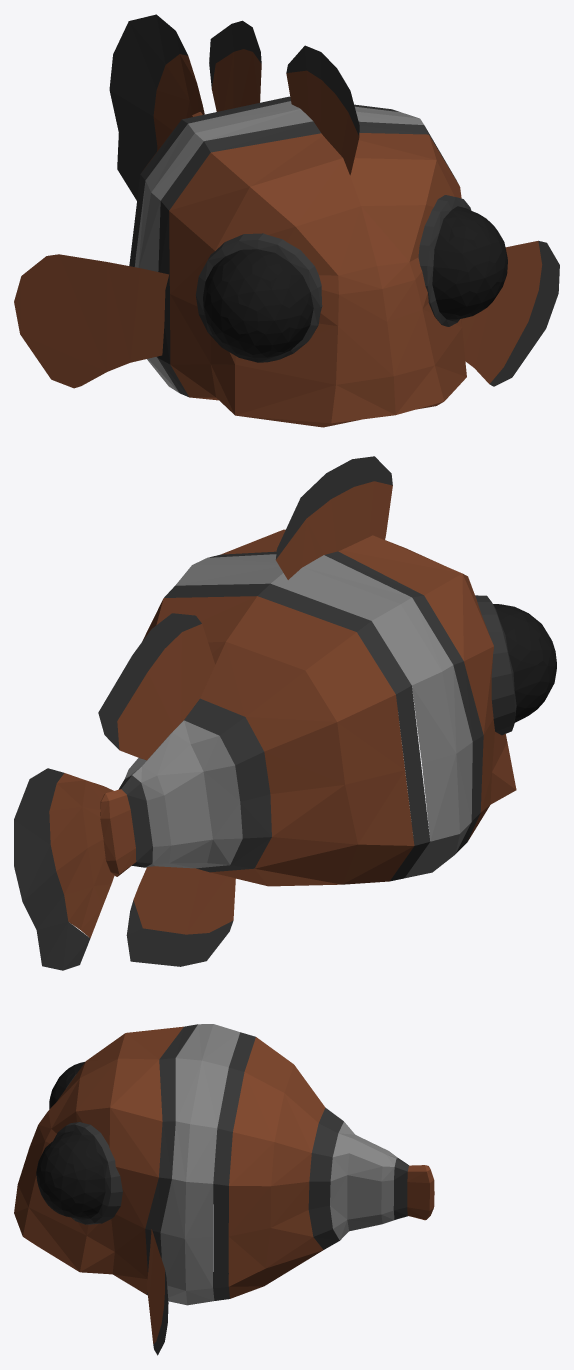
The model's file is clownfish.glb.
3 renders of one model, top to bottom at view 1: azimuth 30°, elevation 25°; view 2: azimuth 150°, elevation 25°; view 3: azimuth 270°, elevation 25°, orthographic. The views are drawn at different scales.
Visible parts, largest first — view 1: Clownfish_baked; view 2: Clownfish_baked; view 3: Clownfish_baked.
Boxes of the visible parts, box(x1,y1,x2,y2) form: Clownfish_baked: box(14, 14, 559, 427); Clownfish_baked: box(14, 456, 556, 970); Clownfish_baked: box(14, 1024, 434, 1355).
Size of the model in its own units: 4.32 by 3.06 by 5.22.
